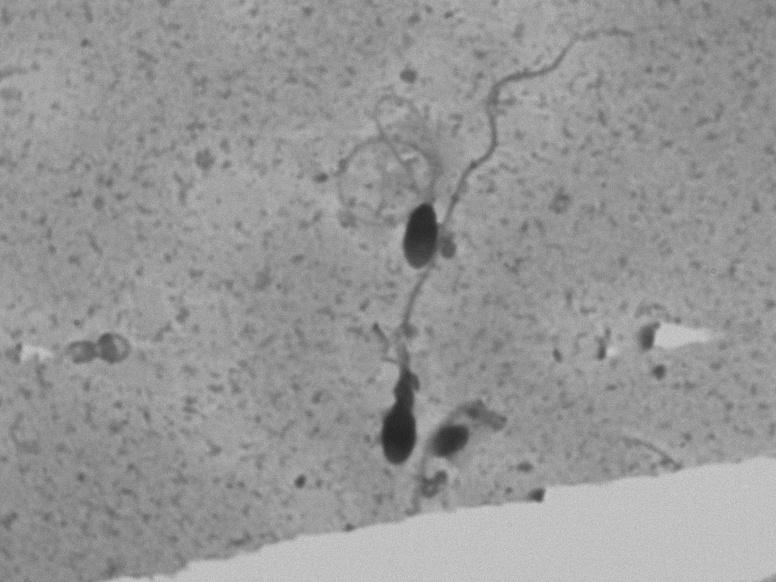Abnormal: (297, 281, 464, 471), (313, 97, 462, 278)
